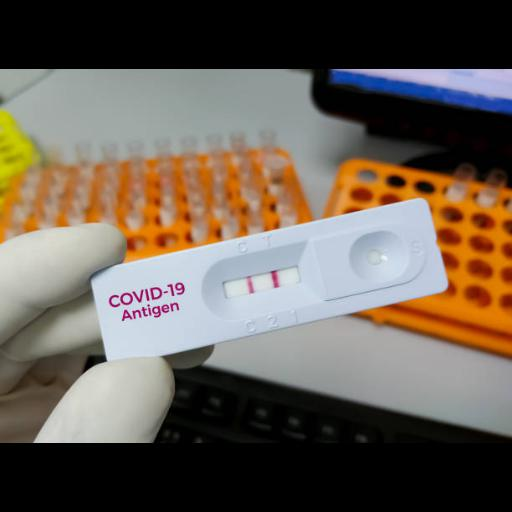Pos: (91, 197, 449, 368)
